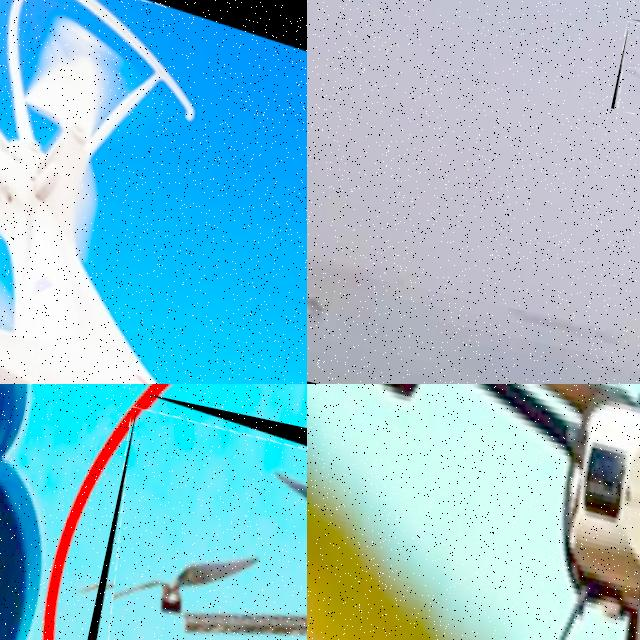0: (610, 18, 640, 127)
drone: (0, 0, 307, 384), (307, 384, 640, 640), (79, 392, 307, 640)
